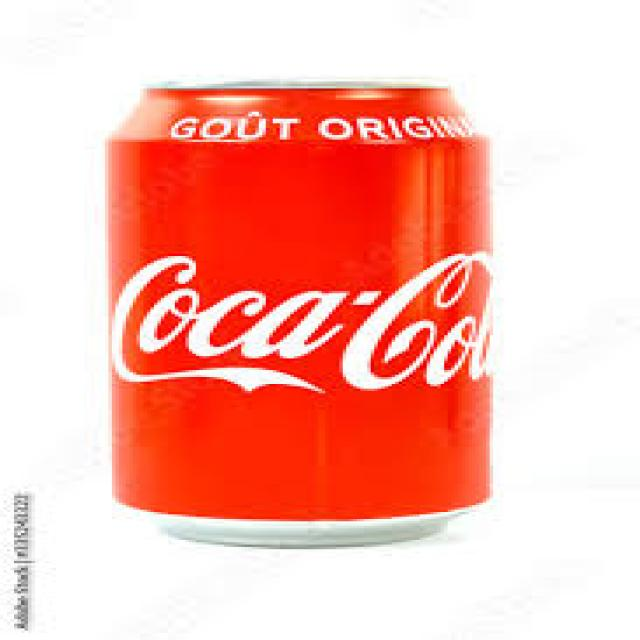aluminum_can: (105, 76, 498, 553)
